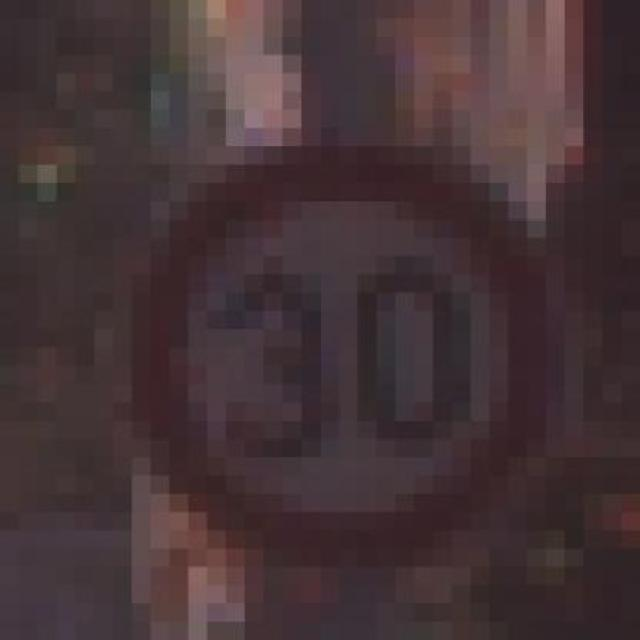Speed Limit 30 KMPh: (94, 110, 603, 567)
